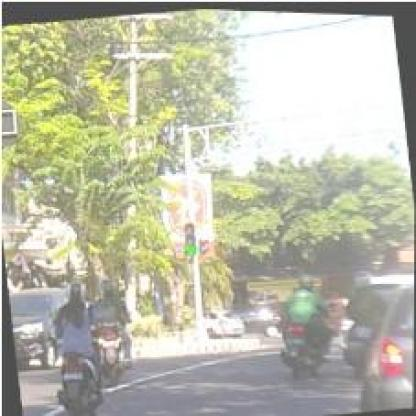green: (181, 220, 197, 253)
